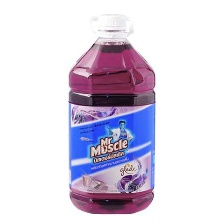cleaning_solution: (65, 12, 157, 216)
